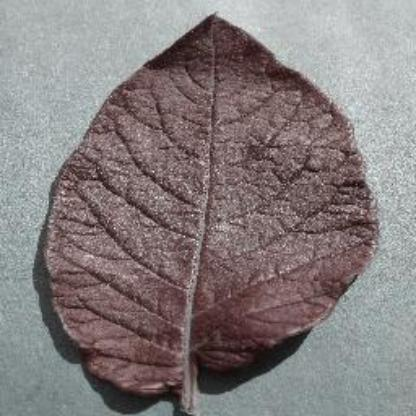Healthy-plant: (26, 19, 378, 400)
